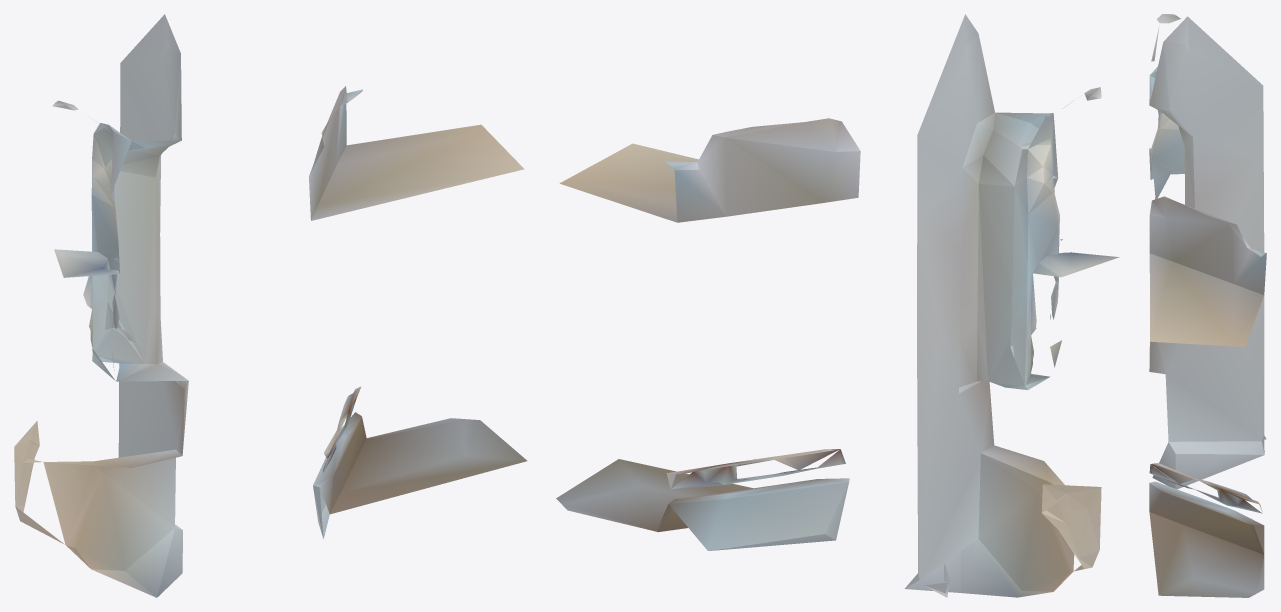
The picture shows the model from 3 angles, left to right: view 1: azimuth 30°, elevation 25°; view 2: azimuth 150°, elevation 25°; view 3: azimuth 270°, elevation 25°; orthographic projection. The views are drawn at different scales.
Bounding box in the file's own units: 8.3 × 9.07 × 2.06.
